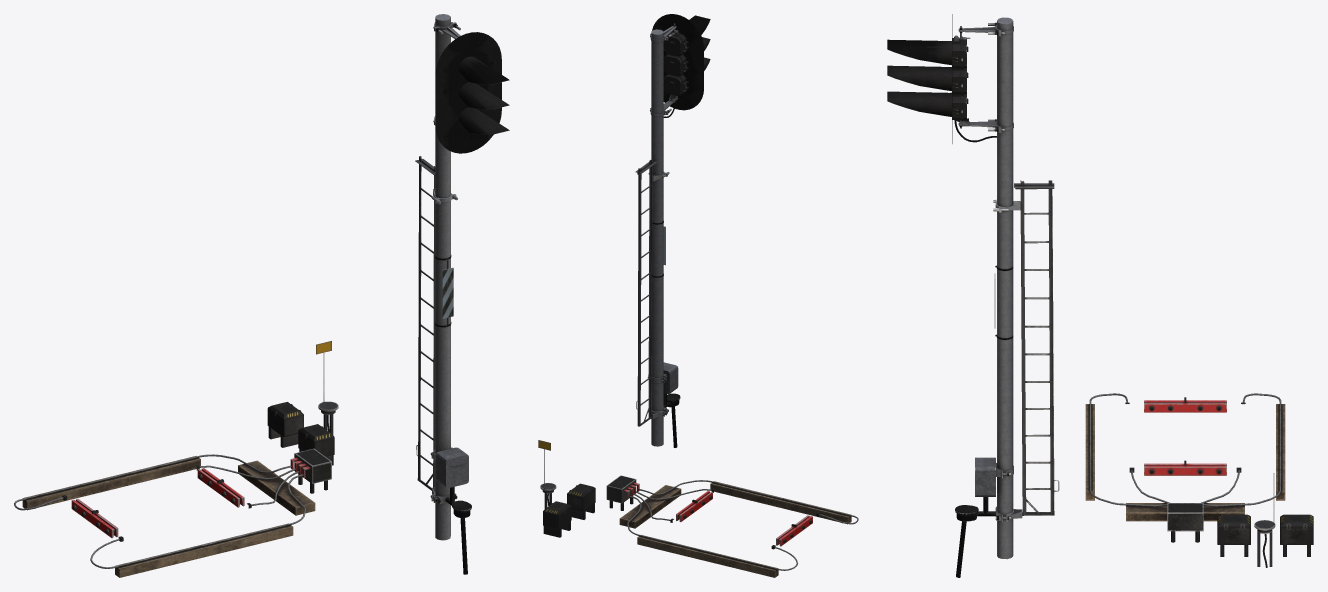
Rendered from RM_sig_MM2_T_3_line.gltf.
The picture shows the model from 3 angles, left to right: view 1: azimuth 30°, elevation 25°; view 2: azimuth 150°, elevation 25°; view 3: azimuth 270°, elevation 25°; orthographic projection. The views are drawn at different scales.
Visible parts, largest first — view 1: Светофор ПРОХОДНОЙ, Изостык, Object002; view 2: Светофор ПРОХОДНОЙ, Изостык, Object002; view 3: Светофор ПРОХОДНОЙ, Изостык.
Part boxes in pixels (x1,y1,x2,y2): Светофор ПРОХОДНОЙ: [415, 14, 509, 574]; Изостык: [14, 341, 338, 577]; Object002: [435, 32, 501, 153]; Светофор ПРОХОДНОЙ: [635, 15, 710, 447]; Изостык: [538, 440, 858, 577]; Object002: [652, 14, 703, 110]; Светофор ПРОХОДНОЙ: [887, 17, 1059, 577]; Изостык: [1085, 393, 1313, 567].
Bounding box in the file's own units: 4.22 × 6.58 × 4.54.
4 materials, 3 textured.
